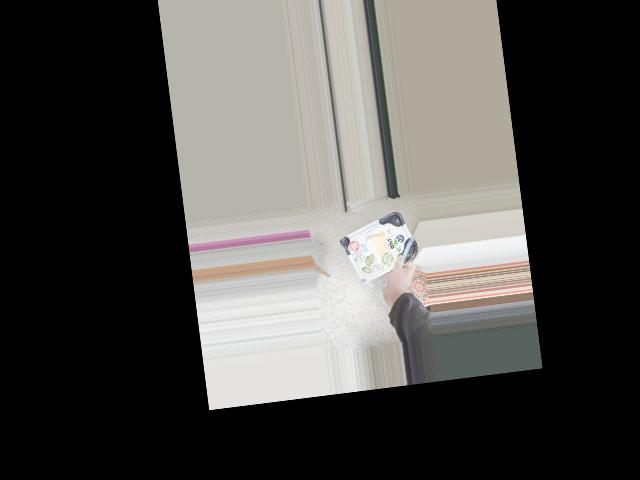cheese: (345, 218, 412, 277)
